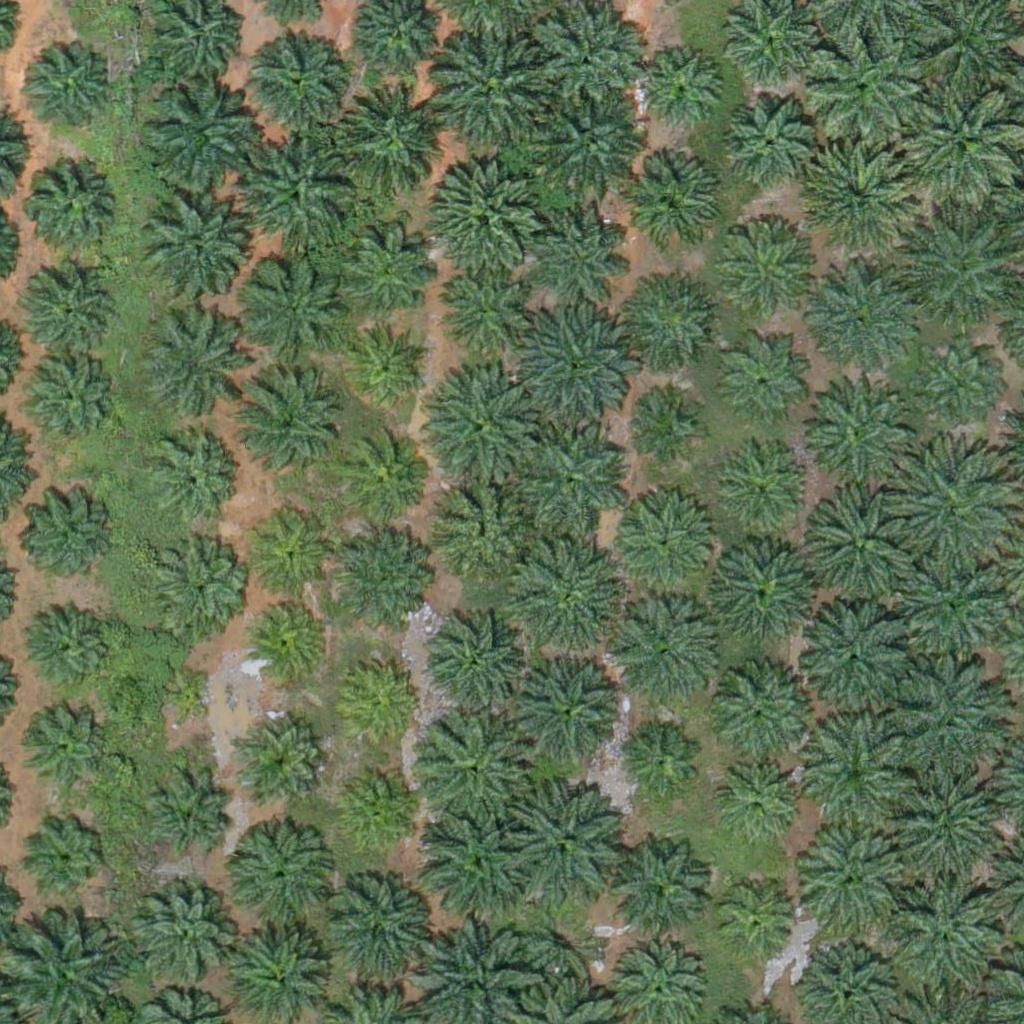Kelapa_Sawit: (884, 442, 1009, 568), (418, 704, 543, 830), (417, 789, 542, 915), (505, 771, 630, 897), (799, 710, 924, 836), (881, 863, 1006, 989), (887, 649, 1012, 775), (881, 765, 1006, 890), (799, 143, 912, 257), (803, 488, 916, 602), (706, 536, 819, 650), (331, 84, 444, 198), (909, 214, 1022, 327), (810, 28, 923, 141), (803, 377, 916, 490), (611, 491, 724, 604), (513, 540, 626, 653), (517, 306, 630, 419), (429, 35, 542, 148), (426, 155, 539, 268), (324, 215, 437, 328), (789, 823, 902, 936), (434, 373, 546, 487), (236, 249, 348, 363), (233, 365, 345, 479), (142, 81, 254, 195), (799, 604, 911, 718), (608, 597, 720, 711), (897, 551, 1009, 664), (801, 266, 913, 379), (516, 424, 628, 537), (535, 86, 647, 199), (241, 140, 353, 253), (508, 655, 620, 768), (713, 659, 825, 772), (533, 193, 633, 294), (137, 313, 237, 414), (13, 41, 113, 142), (18, 262, 118, 363), (19, 351, 119, 452), (327, 878, 427, 979), (622, 155, 722, 255), (437, 476, 537, 576), (250, 31, 350, 131), (146, 533, 246, 633), (141, 200, 241, 300), (22, 156, 122, 256), (134, 882, 234, 982), (236, 822, 336, 922), (618, 844, 718, 944), (336, 536, 424, 625), (343, 323, 431, 411), (719, 445, 807, 533), (633, 45, 721, 133), (432, 269, 520, 357), (335, 435, 423, 523), (146, 431, 234, 519), (246, 596, 334, 684), (27, 597, 114, 686), (726, 221, 813, 309), (725, 95, 812, 183), (627, 276, 714, 364), (248, 511, 335, 599), (23, 490, 110, 578), (433, 618, 520, 706), (345, 769, 420, 845), (729, 347, 804, 423), (242, 726, 317, 802), (343, 665, 418, 741), (628, 728, 703, 804), (26, 825, 101, 900), (923, 337, 998, 412), (26, 709, 101, 784), (160, 776, 235, 851), (725, 766, 800, 841), (722, 891, 797, 966), (636, 395, 699, 458), (542, 918, 604, 981), (157, 678, 207, 728)
